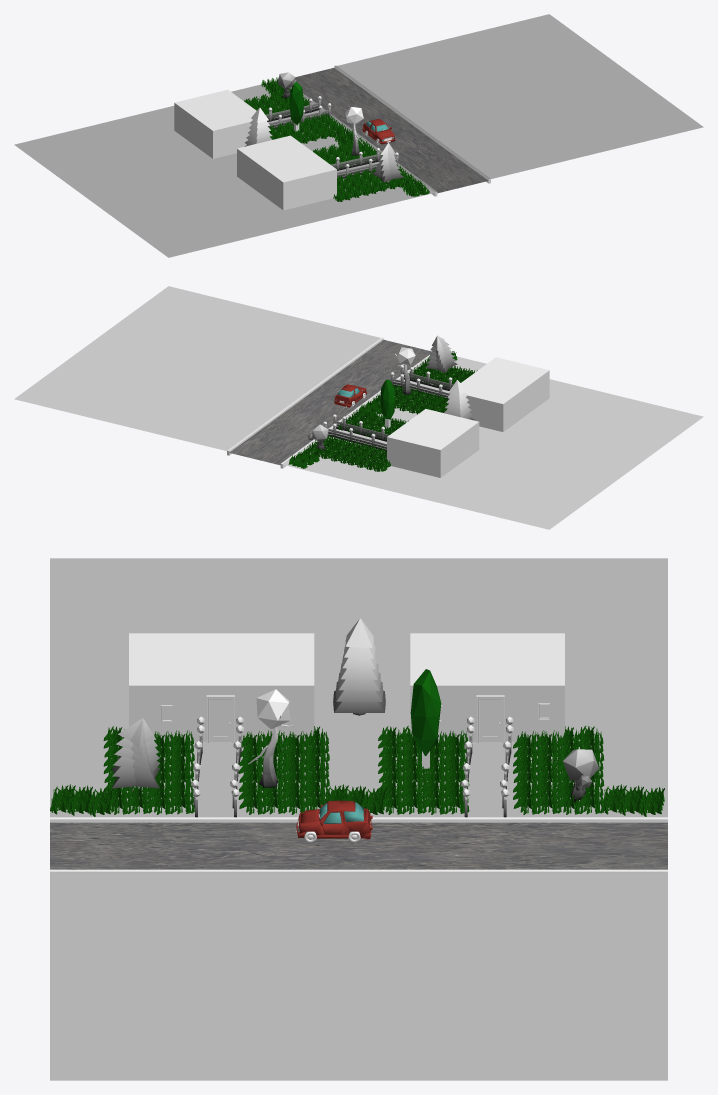
File: Module_5_SM.FBX
3 renders of one model, top to bottom at view 1: azimuth 30°, elevation 25°; view 2: azimuth 150°, elevation 25°; view 3: azimuth 270°, elevation 25°, orthographic. The views are drawn at different scales.
Parts seen in each view (by area): view 1: Module_5_SMBad_LOD0; view 2: Module_5_SMBad_LOD0; view 3: Module_5_SMBad_LOD0.
Part boxes in pixels (x1,y1,x2,y2): Module_5_SMBad_LOD0: (14,14,703,257); Module_5_SMBad_LOD0: (14,286,703,529); Module_5_SMBad_LOD0: (50,558,667,1080).
Bounding box in the file's own units: 10000 × 5000 × 1007.
